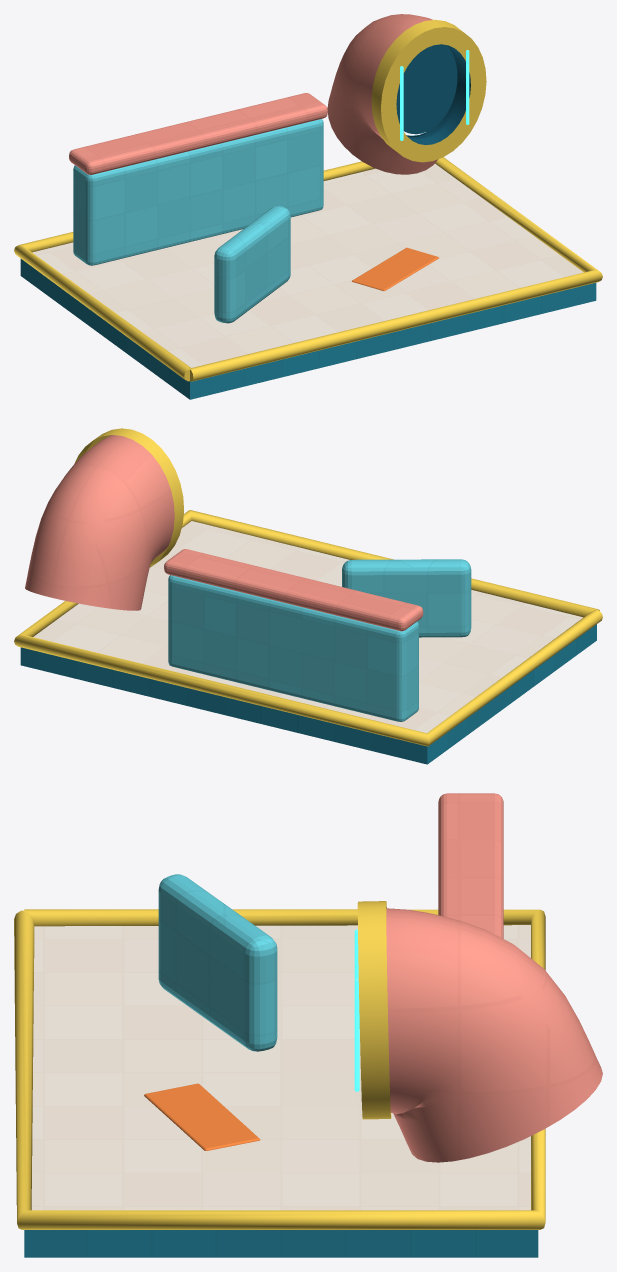
The model's file is twin_bays_art_v3_full_hero_kit.glb.
3 renders of one model, top to bottom at view 1: azimuth 30°, elevation 25°; view 2: azimuth 150°, elevation 25°; view 3: azimuth 270°, elevation 25°, orthographic. The views are drawn at different scales.
Visible parts, largest first — view 1: Hero_TBSA_DryCream, Hero_TBSA_Cyan, Hero_TBSA_SafetyYellow, Hero_TBSA_CoralSoft, Hero_TBSA_CyanDark, Hero_TBSA_PortalRecess, Hero_TBSA_PickupOrange, Hero_TBSA_PortalCyan; view 2: Hero_TBSA_Cyan, Hero_TBSA_CoralSoft, Hero_TBSA_DryCream, Hero_TBSA_SafetyYellow, Hero_TBSA_CyanDark; view 3: Hero_TBSA_DryCream, Hero_TBSA_CoralSoft, Hero_TBSA_SafetyYellow, Hero_TBSA_Cyan, Hero_TBSA_CyanDark, Hero_TBSA_PickupOrange, Hero_TBSA_PortalCyan.
Part boxes in pixels (left/top/right/bottom): Hero_TBSA_DryCream: left=32, top=164, right=583, bottom=367; Hero_TBSA_Cyan: left=73, top=119, right=323, bottom=323; Hero_TBSA_SafetyYellow: left=14, top=19, right=602, bottom=381; Hero_TBSA_CoralSoft: left=69, top=14, right=438, bottom=174; Hero_TBSA_CyanDark: left=20, top=259, right=596, bottom=399; Hero_TBSA_PortalRecess: left=396, top=44, right=470, bottom=144; Hero_TBSA_PickupOrange: left=352, top=247, right=438, bottom=290; Hero_TBSA_PortalCyan: left=400, top=50, right=469, bottom=140; Hero_TBSA_Cyan: left=168, top=559, right=471, bottom=721; Hero_TBSA_CoralSoft: left=25, top=435, right=423, bottom=631; Hero_TBSA_DryCream: left=33, top=521, right=583, bottom=733; Hero_TBSA_SafetyYellow: left=14, top=428, right=602, bottom=746; Hero_TBSA_CyanDark: left=20, top=624, right=596, bottom=764; Hero_TBSA_DryCream: left=31, top=925, right=530, bottom=1210; Hero_TBSA_CoralSoft: left=386, top=793, right=602, bottom=1162; Hero_TBSA_SafetyYellow: left=14, top=901, right=545, bottom=1229; Hero_TBSA_Cyan: left=158, top=874, right=277, bottom=1051; Hero_TBSA_CyanDark: left=24, top=1230, right=538, bottom=1257; Hero_TBSA_PickupOrange: left=144, top=1083, right=260, bottom=1150; Hero_TBSA_PortalCyan: left=354, top=929, right=359, bottom=1091.
Size of the model in its own units: 18.44 by 8.68 by 14.9.
Materials: 8 (4 with a texture image).
